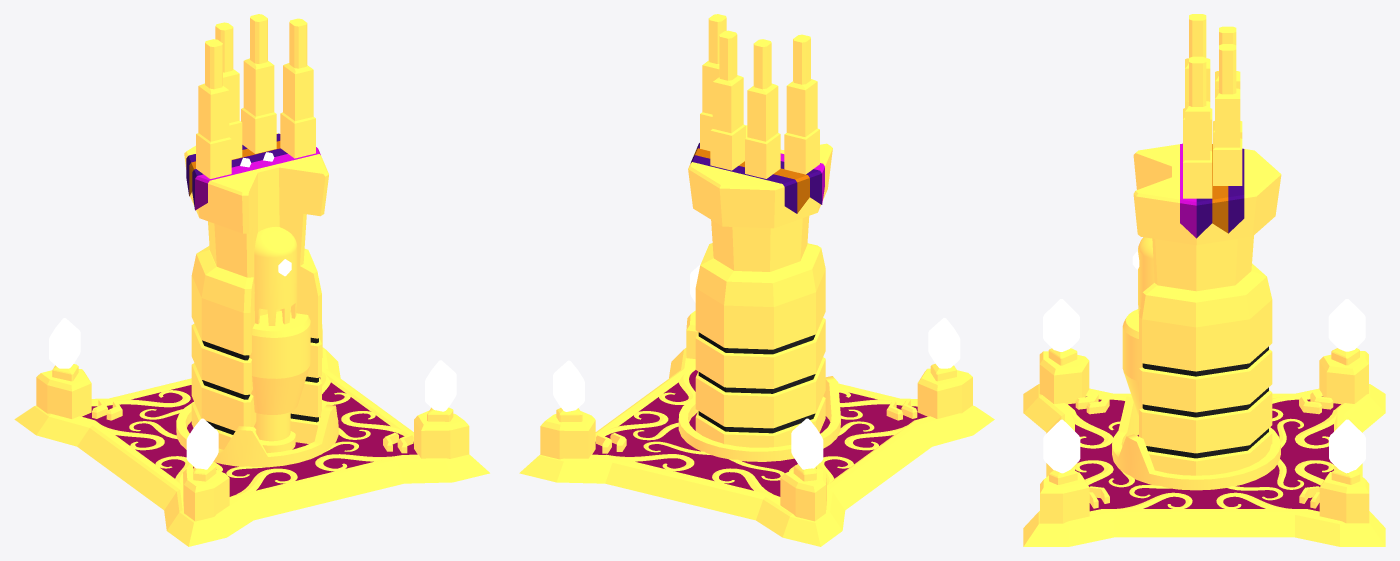
The model's file is 5_aaltar_LE_5.fbx.
3 views of the same model, side by side, from view 1: azimuth 30°, elevation 25°; view 2: azimuth 150°, elevation 25°; view 3: azimuth 270°, elevation 25° (orthographic). The views are drawn at different scales.
Visible parts, largest first — view 1: aaltar_LE_5; view 2: aaltar_LE_5; view 3: aaltar_LE_5.
Part boxes in pixels (box(x1,y1,x2,y2)): aaltar_LE_5: box(14, 14, 489, 546); aaltar_LE_5: box(519, 14, 994, 546); aaltar_LE_5: box(1023, 14, 1385, 546).
Size of the model in its own units: 78.77 by 104 by 78.73.
